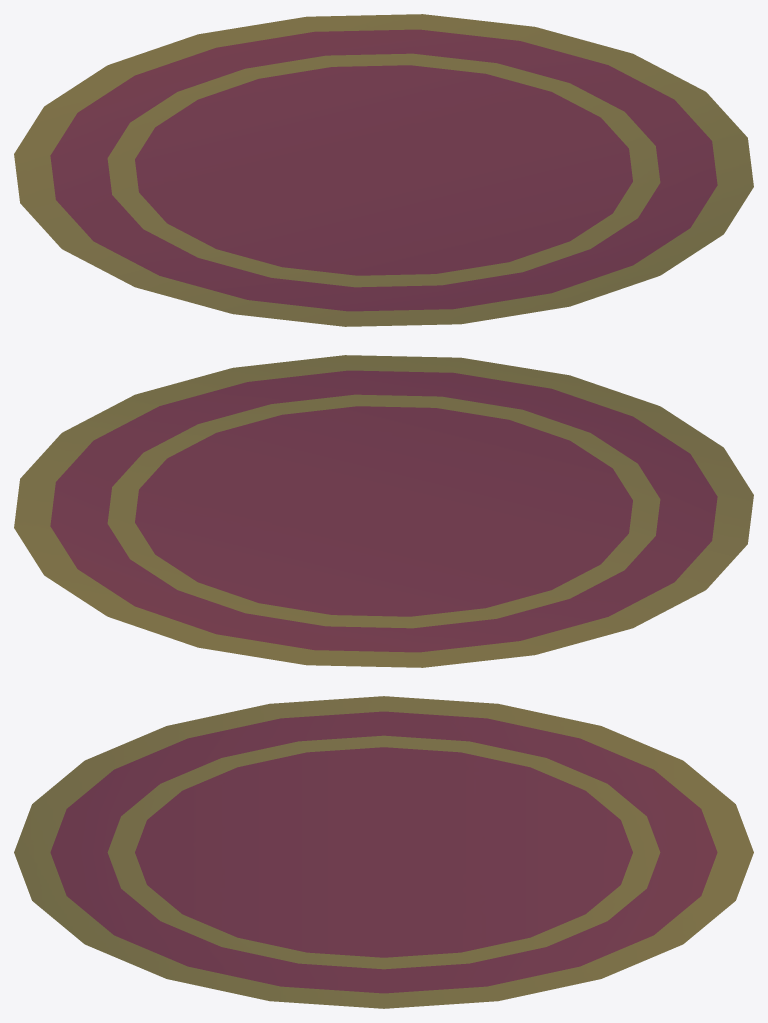
Rendered from SM_Carpet.fbx.
The picture shows the model from 3 angles, top to bottom: view 1: azimuth 30°, elevation 25°; view 2: azimuth 150°, elevation 25°; view 3: azimuth 270°, elevation 25°; orthographic projection.
Visible parts, largest first — view 1: SM_Carpet; view 2: SM_Carpet; view 3: SM_Carpet.
Boxes of the visible parts, x1,y1,x2,y2 form: SM_Carpet: (14, 14, 753, 326); SM_Carpet: (14, 355, 753, 667); SM_Carpet: (14, 696, 753, 1008).
Bounding box in the file's own units: 321 × 0 × 321.
Materials: 1 (1 with a texture image).
